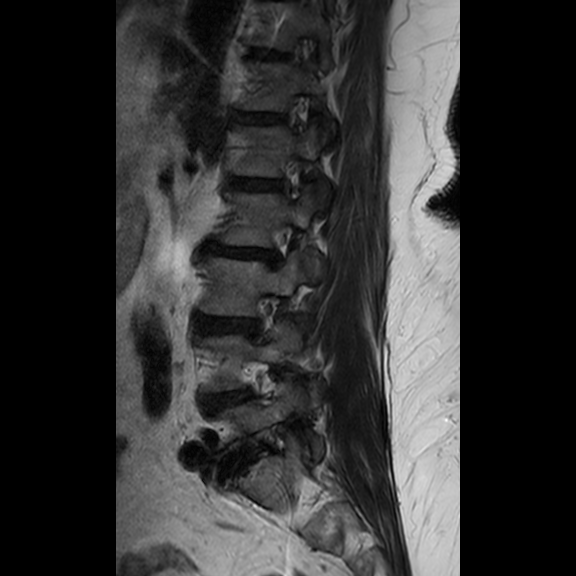LFS0: (254, 214, 302, 283), (266, 148, 315, 210)
